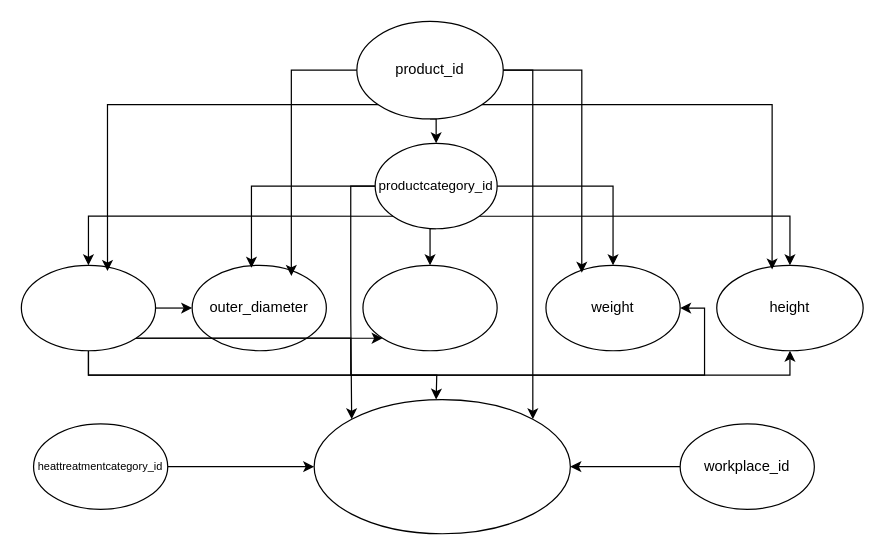
The diagram is 885 pixels wide and 555 high, and some of its shapes have lost their labels. The centre of each missing label's shape, as x and y in pixels:
"duration_seconds" goes at (441,466).
"inner_diameter" goes at (429,307).
"material_id" goes at (88,307).
